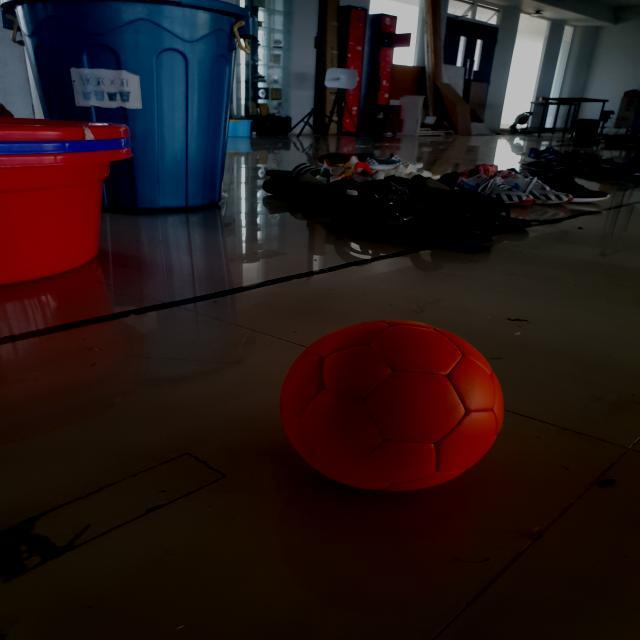bola: (248, 307, 522, 500)
